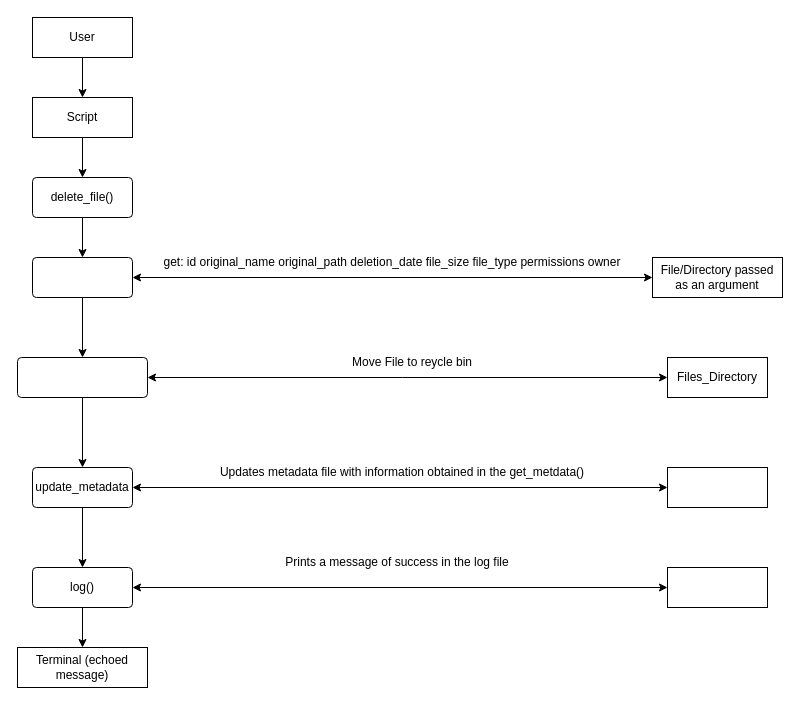
Image size: 800x705. Some labels were removed from this diagram. Here are the shapes that lost their labels. From the top down, the centre of each, then its label:
At point 82,277: "get_metadata()".
At point 82,377: "move_to_recycle_bin".
At point 717,487: "Metadata_File".
At point 717,587: "Log_FIle".
